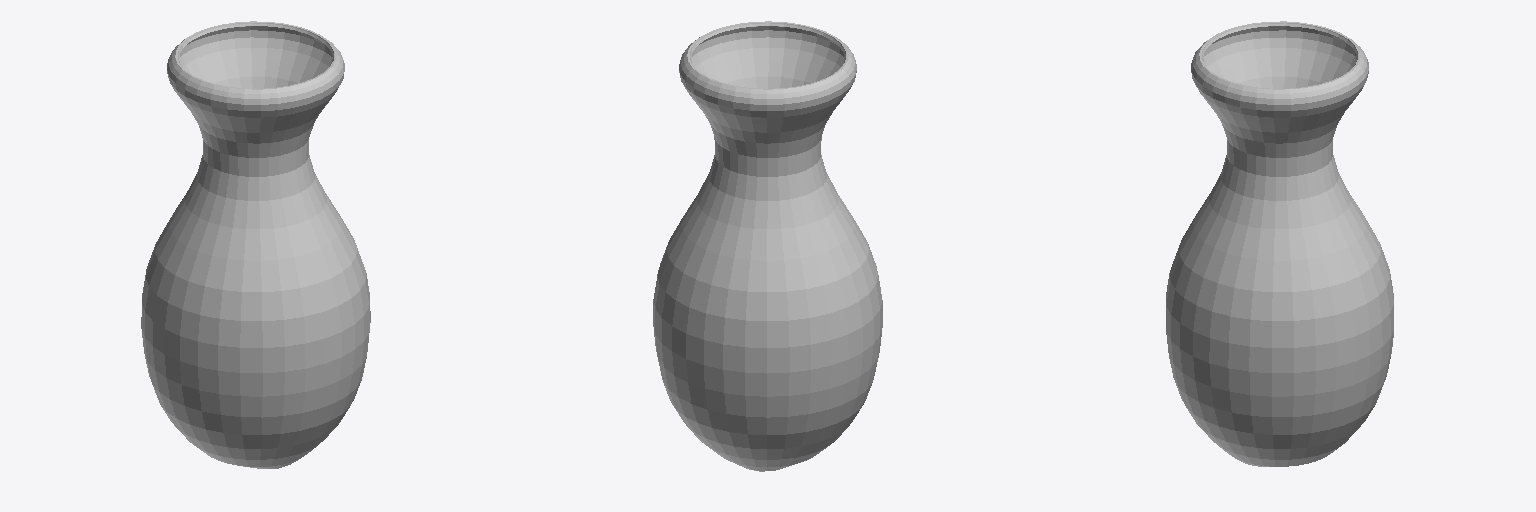
Rendered from Vase.obj.
3 views of the same model, side by side, from view 1: azimuth 30°, elevation 25°; view 2: azimuth 150°, elevation 25°; view 3: azimuth 270°, elevation 25° (orthographic).
Parts seen in each view (by area): view 1: Plane; view 2: Plane; view 3: Plane.
Part boxes in pixels (left/top/right/bottom): Plane: left=141, top=21, right=370, bottom=468; Plane: left=653, top=21, right=882, bottom=471; Plane: left=1166, top=21, right=1393, bottom=466.
Size of the model in its own units: 0.932 by 1.8 by 0.932.